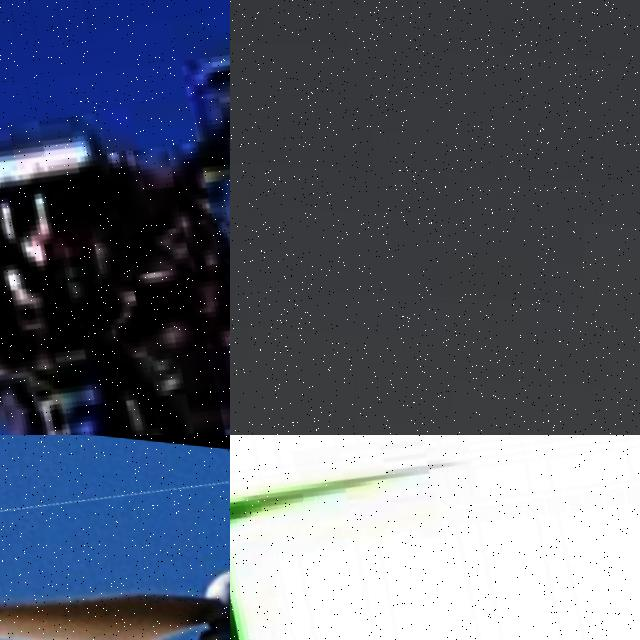drone: (0, 0, 230, 435), (230, 435, 640, 640), (0, 435, 230, 640)
